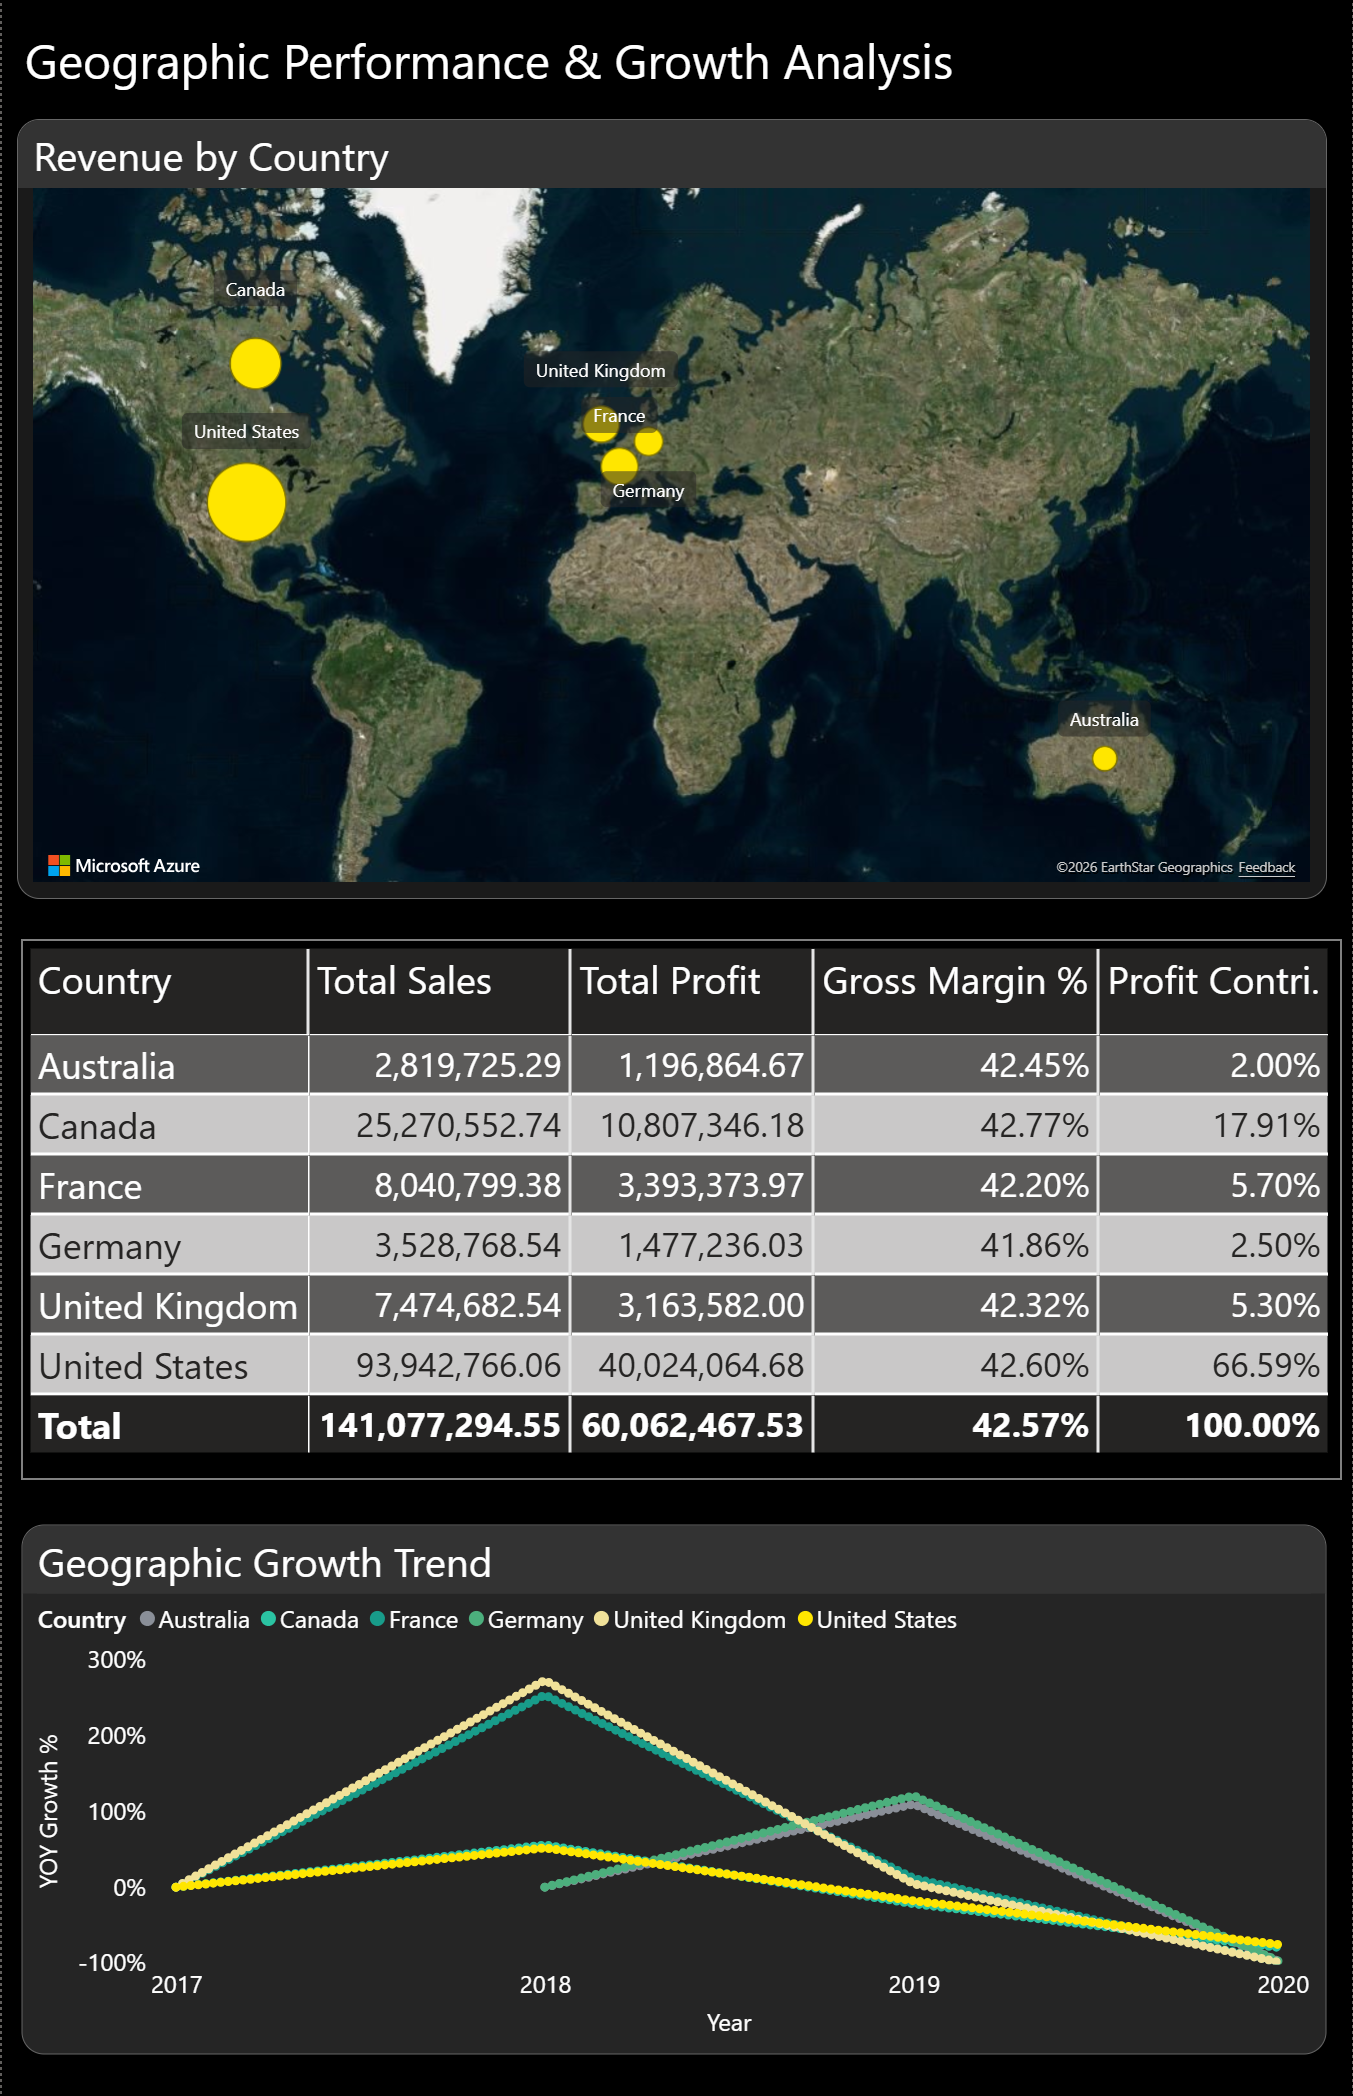

Layout of this report page (visuals, bound fields, positions):
{"tool":"powerbi","page":{"name":"Bike Data 3","canvas":[900,1400],"ordinal":2},"visuals":[{"type":"textbox","box":[10.4,13.4,636.7,66.9],"z":0},{"type":"pivotTable","fields":{"Values":["Measure.Total_Sales","Measure.TOTAL_PROFIT","Measure.Gross Margin %","Measure.Percentage_Contribution"],"Rows":["Bike_Data.Country"]},"box":[13.3,626.7,880,360],"z":1000},{"type":"azureMap","title":"Revenue by Country","fields":{"Size":["Measure.Total_Sales"],"Category":["Bike_Data.Country"]},"box":[10,80,873.3,520],"z":2000},{"type":"lineChart","title":"Geographic Growth Trend","fields":{"Category":["DateMaster.Year"],"Series":["Bike_Data.Country"],"Y":["Measure.YOY SALES"]},"box":[13.3,1016.7,870,353.3],"z":3000}]}

Visuals, with their boxes in screenshot pixels (x1, y1, x2, y2), scaled from the page's 900x1400 canvas onto the 1353x2096 screenshot:
textbox: [16, 20, 973, 120]
pivotTable - Measure.Total_Sales x Measure.TOTAL_PROFIT: [20, 938, 1343, 1477]
"Revenue by Country" azureMap: [15, 120, 1328, 898]
"Geographic Growth Trend" lineChart: [20, 1522, 1328, 2051]
